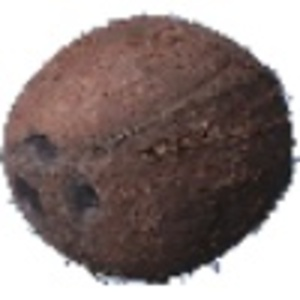coco: (3, 14, 300, 286)
